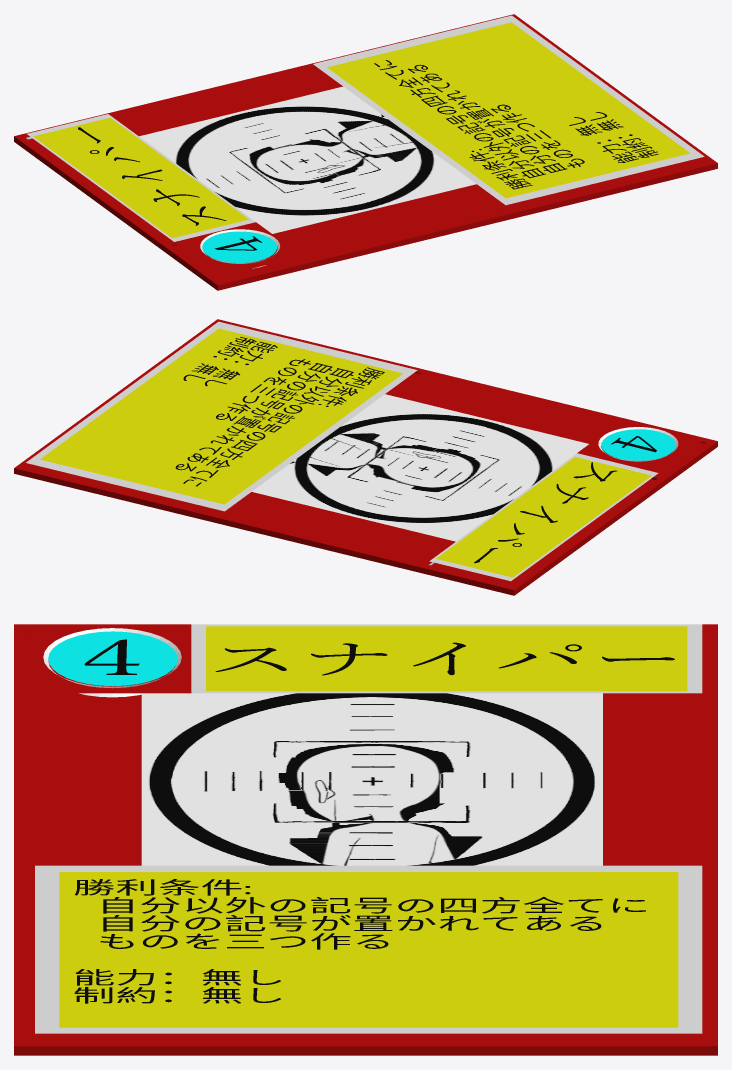
The model's file is スナイパー赤.fbx.
3 views of the same model, one above another, from view 1: azimuth 30°, elevation 25°; view 2: azimuth 150°, elevation 25°; view 3: azimuth 270°, elevation 25° (orthographic). The views are drawn at different scales.
Visible parts, largest first — view 1: 説明欄, 平面.001, カード本体.001, 名前欄, 説明文, 円, 平面, 名前; view 2: 説明欄, 平面.001, カード本体.001, 名前欄, 説明文, 円, 平面, 名前; view 3: 説明欄, 平面.001, カード本体.001, 名前欄, 説明文, 平面, 円, 名前, コスト蘭.
Part boxes in pixels (x1,y1,x2,y2): 説明欄: (313, 15, 704, 205); 平面.001: (139, 86, 476, 233); カード本体.001: (14, 14, 717, 290); 名前欄: (27, 114, 255, 241); 説明文: (374, 60, 658, 189); 円: (202, 231, 276, 262); 平面: (174, 222, 302, 275); 名前: (78, 127, 226, 225); 説明欄: (26, 321, 417, 511); 平面.001: (252, 394, 588, 541); カード本体.001: (14, 319, 717, 595); 名前欄: (429, 453, 658, 581); 説明文: (175, 337, 384, 486); 円: (601, 429, 675, 460); 平面: (577, 419, 704, 472); 名前: (474, 462, 617, 563); 説明欄: (35, 865, 702, 1033); 平面.001: (141, 693, 602, 865); カード本体.001: (14, 624, 717, 1055); 名前欄: (191, 624, 702, 693); 説明文: (74, 879, 645, 1003); 平面: (30, 624, 191, 693); 円: (48, 631, 177, 686); 名前: (215, 642, 674, 675); コスト蘭: (43, 628, 181, 697).
Size of the model in its own units: 281 by 6.07 by 198.
